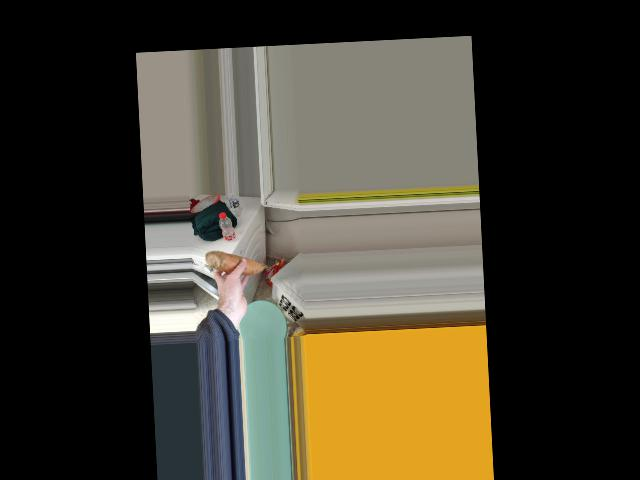sweet_potato: (205, 252, 269, 273)
